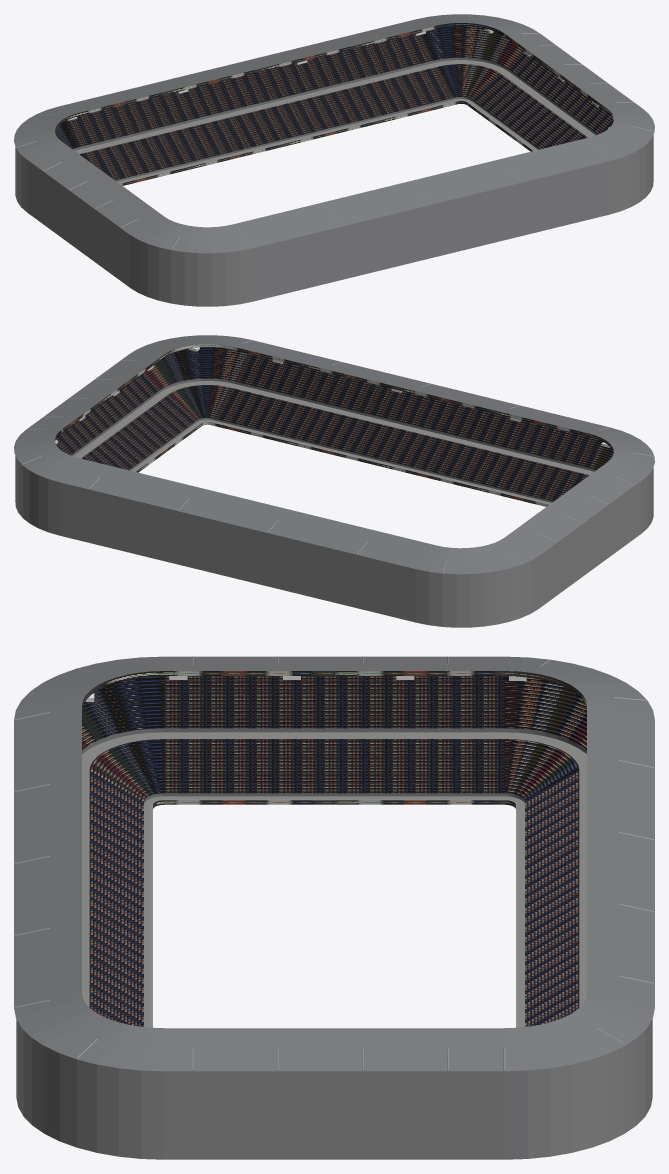
The model's file is fp_arena.glb.
The picture shows the model from 3 angles, top to bottom: view 1: azimuth 30°, elevation 25°; view 2: azimuth 150°, elevation 25°; view 3: azimuth 270°, elevation 25°; orthographic projection. The views are drawn at different scales.
Parts seen in each view (by area): view 1: fp_arena; view 2: fp_arena; view 3: fp_arena.
Part boxes in pixels (x1,y1,x2,y2): fp_arena: [14, 14, 654, 306]; fp_arena: [14, 335, 654, 627]; fp_arena: [14, 656, 654, 1159].
Size of the model in its own units: 865 by 101 by 565.
9 materials, 2 textured.
